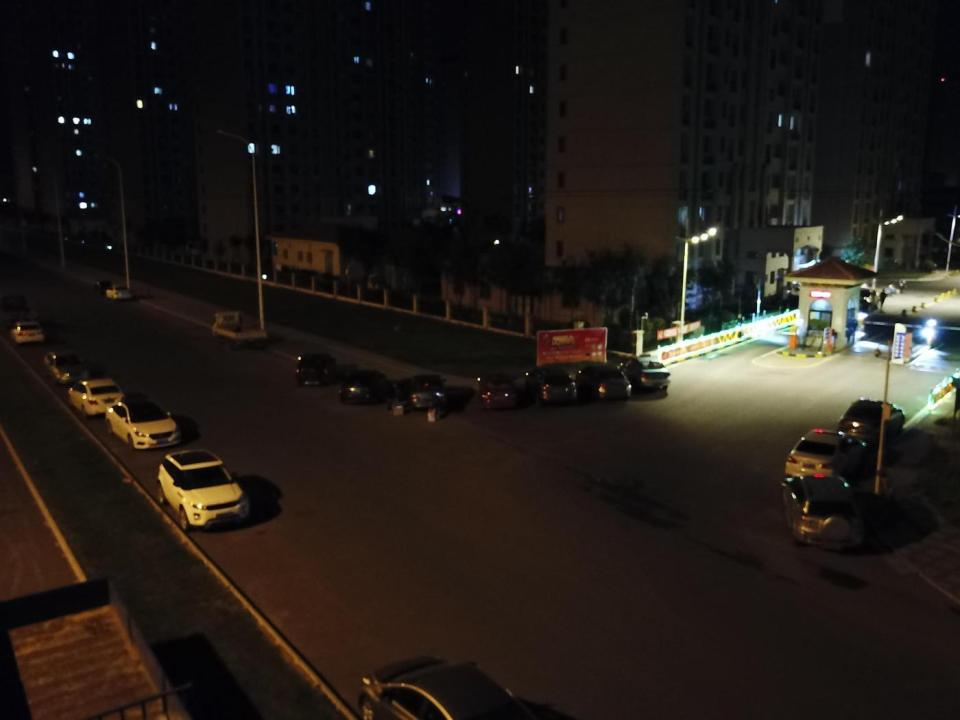car: (359, 654, 557, 720), (157, 449, 250, 532), (780, 473, 866, 548), (784, 428, 869, 481), (106, 400, 182, 450), (837, 397, 906, 446), (68, 378, 126, 419), (578, 361, 631, 400), (524, 366, 577, 403), (620, 356, 671, 389), (340, 370, 386, 405), (44, 351, 90, 385), (477, 373, 517, 409), (296, 354, 336, 386), (409, 373, 444, 408), (10, 320, 46, 344), (105, 286, 131, 300), (94, 280, 112, 294)
truck: (0, 576, 214, 719), (212, 310, 269, 350)
